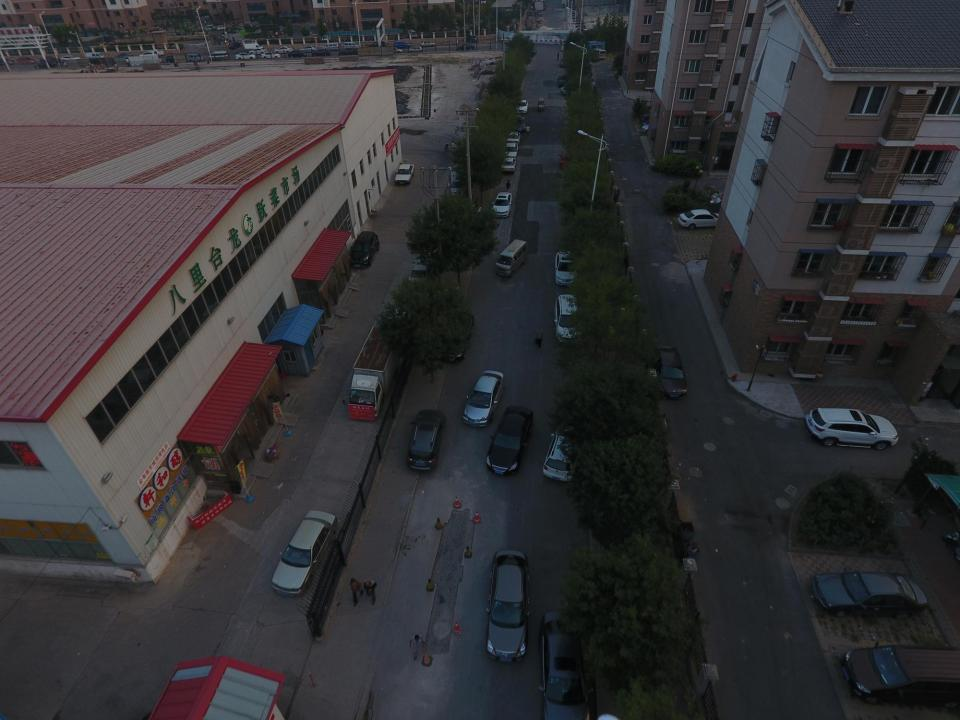car: (538, 611, 594, 720), (270, 509, 338, 596), (484, 548, 533, 664), (809, 572, 929, 618), (804, 408, 899, 450), (485, 404, 535, 476), (543, 415, 590, 481), (406, 407, 446, 471), (462, 370, 504, 428), (649, 343, 689, 400), (434, 309, 475, 362), (347, 230, 380, 268), (407, 255, 439, 290), (678, 208, 726, 230), (554, 250, 578, 286), (490, 192, 512, 219), (394, 163, 414, 185), (558, 153, 575, 170), (640, 112, 665, 123), (500, 157, 516, 174), (642, 123, 666, 134), (560, 86, 581, 98), (641, 118, 666, 128), (503, 142, 518, 158), (513, 116, 527, 133), (556, 74, 572, 88), (506, 131, 521, 145), (515, 99, 529, 113), (34, 61, 56, 69), (138, 56, 163, 63), (260, 51, 281, 59), (60, 55, 81, 63), (367, 40, 387, 48), (287, 50, 307, 58), (138, 52, 158, 60), (16, 56, 36, 64), (235, 52, 257, 59), (40, 56, 59, 64), (337, 48, 358, 55), (456, 43, 474, 51), (274, 46, 292, 54), (165, 54, 181, 63), (311, 49, 331, 56), (559, 58, 572, 68), (392, 41, 410, 48), (112, 53, 133, 59), (463, 35, 478, 43), (388, 46, 403, 54), (298, 46, 318, 52), (248, 48, 268, 54), (145, 50, 164, 56), (228, 42, 242, 49), (420, 41, 436, 47), (560, 42, 569, 52), (408, 46, 422, 52)
truck: (342, 317, 404, 418)
van: (841, 640, 960, 708), (553, 293, 585, 345), (494, 239, 528, 278), (448, 166, 467, 198), (209, 51, 228, 61), (85, 52, 106, 61), (591, 48, 606, 60), (321, 43, 339, 52), (244, 43, 263, 51), (187, 54, 205, 62), (343, 41, 360, 49), (408, 29, 418, 37)
